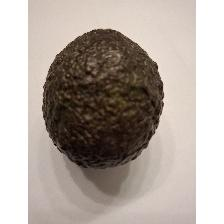Avocado: (42, 24, 168, 172)
